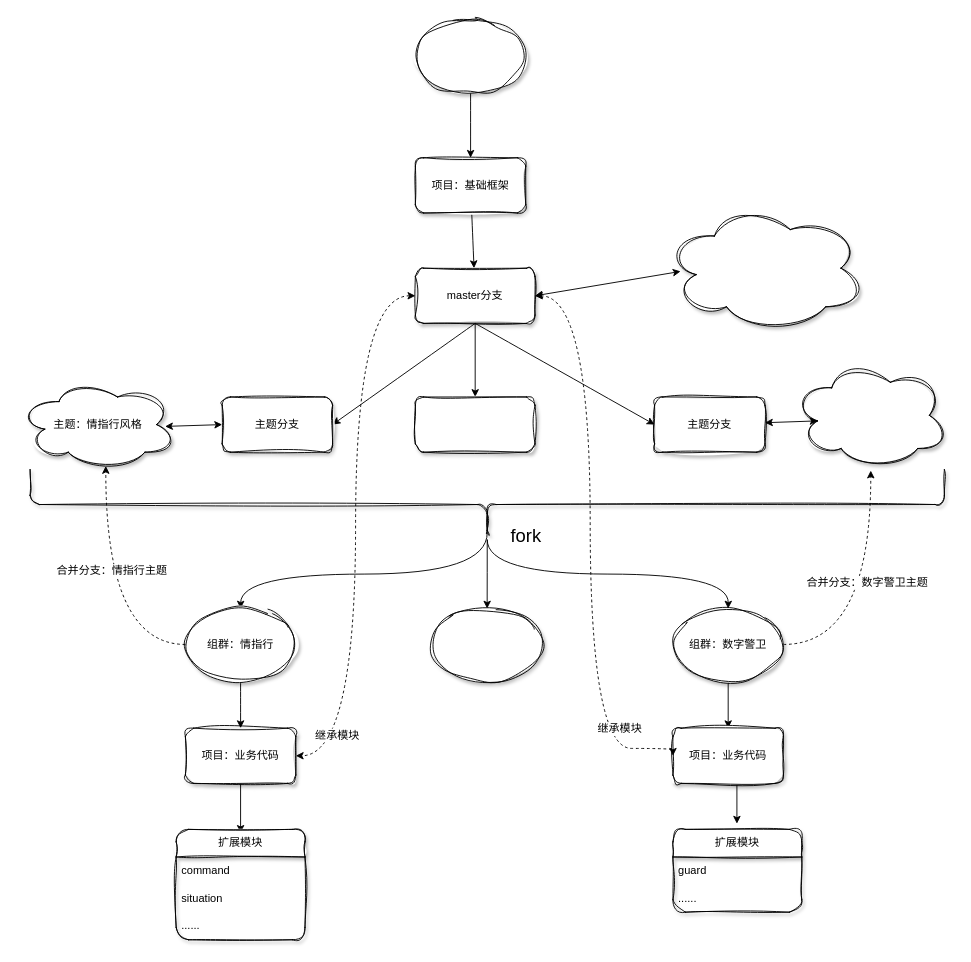
Some shapes in this 971 by 962 pixel diagram are drawn without their labels. The centre of each missing label's shape, as x and y in pixels:
主题：数字警卫风格: point 871,416
其他主题分支...: point 475,425
其他项目组群...: point 487,645
包含：mian、system、 resource、common: point 765,269
组群：ITP: point 471,57
